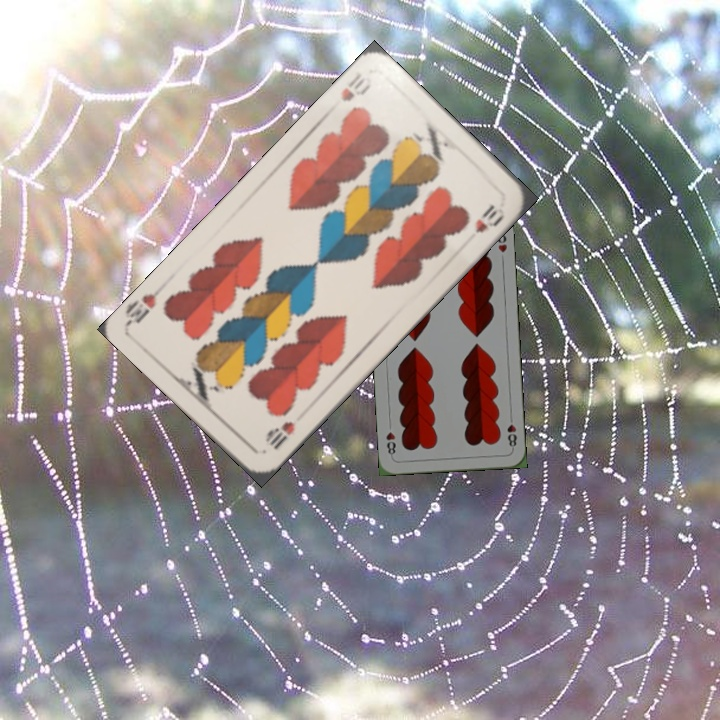H10: (337, 69, 375, 105), (260, 417, 298, 452)
H8: (503, 411, 520, 452)
